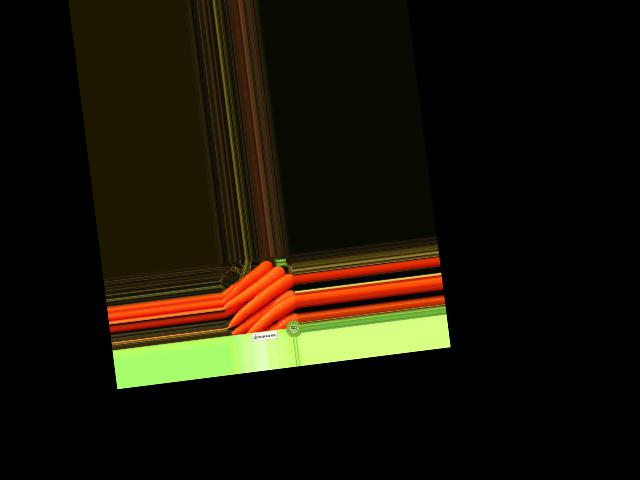carrot: (225, 288, 299, 337)
